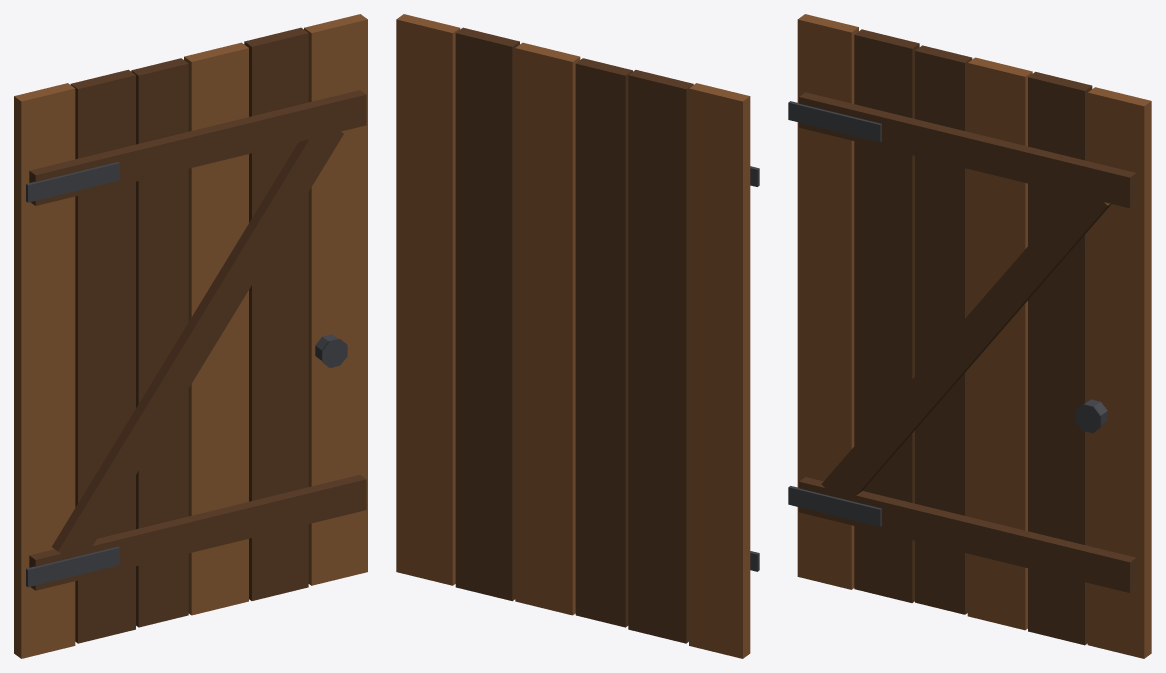
Rendered from mine_door.glb.
3 views of the same model, side by side, from view 1: azimuth 30°, elevation 25°; view 2: azimuth 150°, elevation 25°; view 3: azimuth 330°, elevation 25° (orthographic).
Visible parts, largest first — view 1: mine_door; view 2: mine_door; view 3: mine_door.
Part boxes in pixels (x1=…): mine_door: x1=14, y1=14, x2=367, y2=658; mine_door: x1=396, y1=14, x2=759, y2=658; mine_door: x1=788, y1=14, x2=1151, y2=658.
Size of what is drawn, in the model's own units: 1.89 by 2.9 by 0.18.
